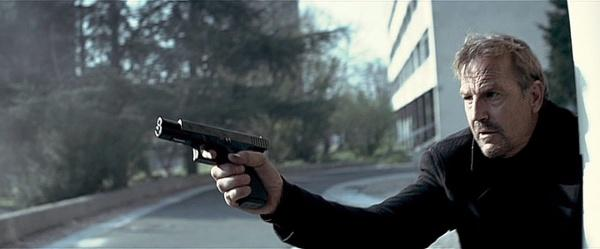Gun: (154, 116, 272, 211)
